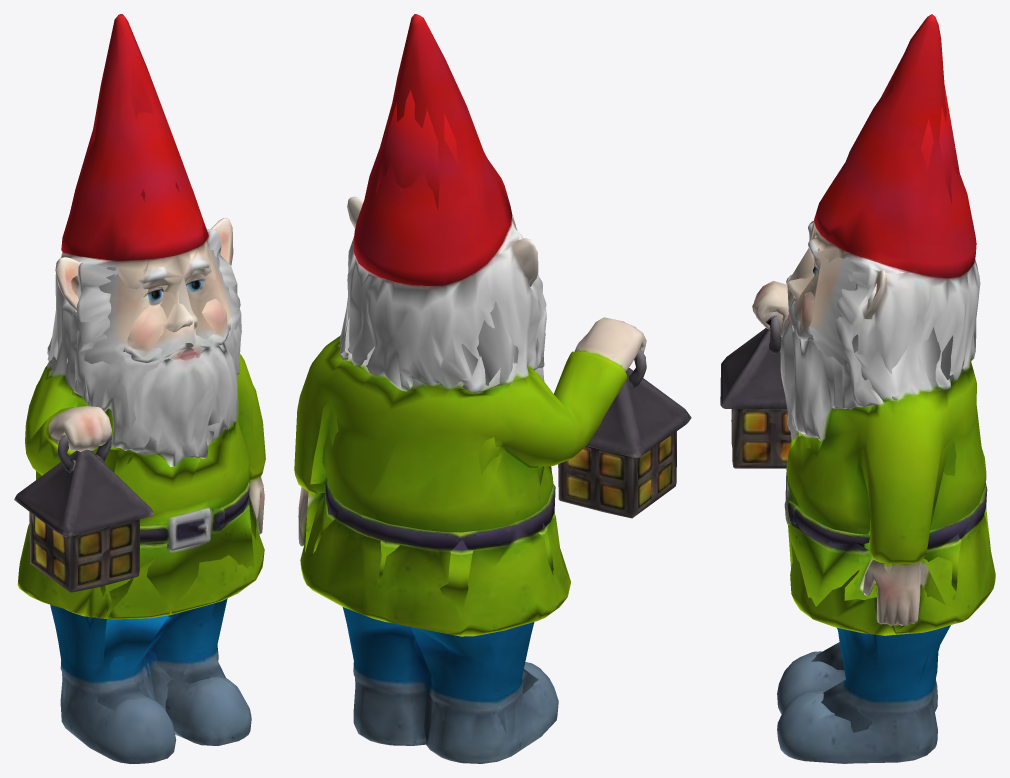
File: garden_gnome.glb
3 views of the same model, side by side, from view 1: azimuth 30°, elevation 25°; view 2: azimuth 150°, elevation 25°; view 3: azimuth 270°, elevation 25° (orthographic). The views are drawn at different scales.
Parts seen in each view (by area): view 1: garden_gnome, garden_gnome_lo; view 2: garden_gnome, garden_gnome_lo; view 3: garden_gnome, garden_gnome_lo.
Part boxes in pixels (bbox=[...]): garden_gnome: bbox=[14, 14, 265, 763]; garden_gnome_lo: bbox=[29, 61, 261, 738]; garden_gnome: bbox=[294, 14, 691, 763]; garden_gnome_lo: bbox=[305, 90, 673, 742]; garden_gnome: bbox=[720, 14, 995, 763]; garden_gnome_lo: bbox=[731, 54, 990, 732].
Bounding box in the file's own units: 0.2574 × 0.5987 × 0.2097.
Materials: 1 (1 with a texture image).
